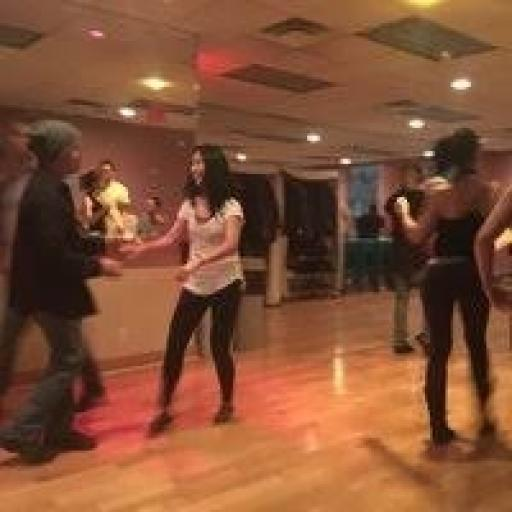dancing: (116, 141, 254, 440)
